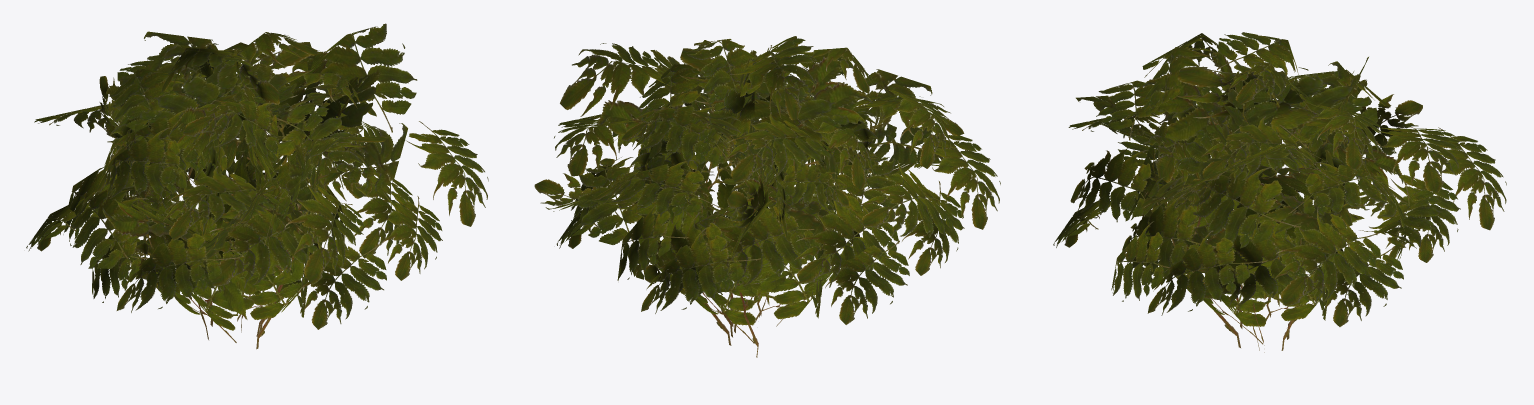
Rendered from bush05_lod2.obj.
3 views of the same model, side by side, from view 1: azimuth 30°, elevation 25°; view 2: azimuth 150°, elevation 25°; view 3: azimuth 270°, elevation 25° (orthographic). The views are drawn at different scales.
Parts seen in each view (by area): view 1: Bush05_LOD2_Mesh.010; view 2: Bush05_LOD2_Mesh.010; view 3: Bush05_LOD2_Mesh.010.
Boxes of the visible parts, x1=… form: Bush05_LOD2_Mesh.010: x1=26, y1=23, x2=488, y2=349; Bush05_LOD2_Mesh.010: x1=534, y1=36, x2=1000, y2=357; Bush05_LOD2_Mesh.010: x1=1053, y1=32, x2=1506, y2=352.
Bounding box in the file's own units: 4.58 × 3.81 × 4.59.
Materials: 1 (1 with a texture image).
